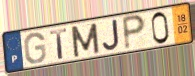0: (150, 10, 171, 45)
G: (23, 31, 48, 65)
J: (101, 18, 120, 52)
M: (69, 21, 101, 59)
P: (120, 13, 147, 52)
T: (48, 27, 69, 61)
